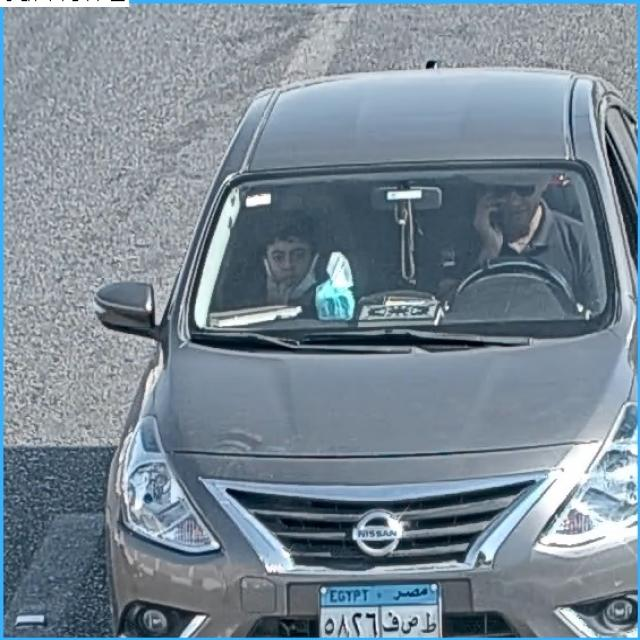windshield: (187, 160, 618, 365)
